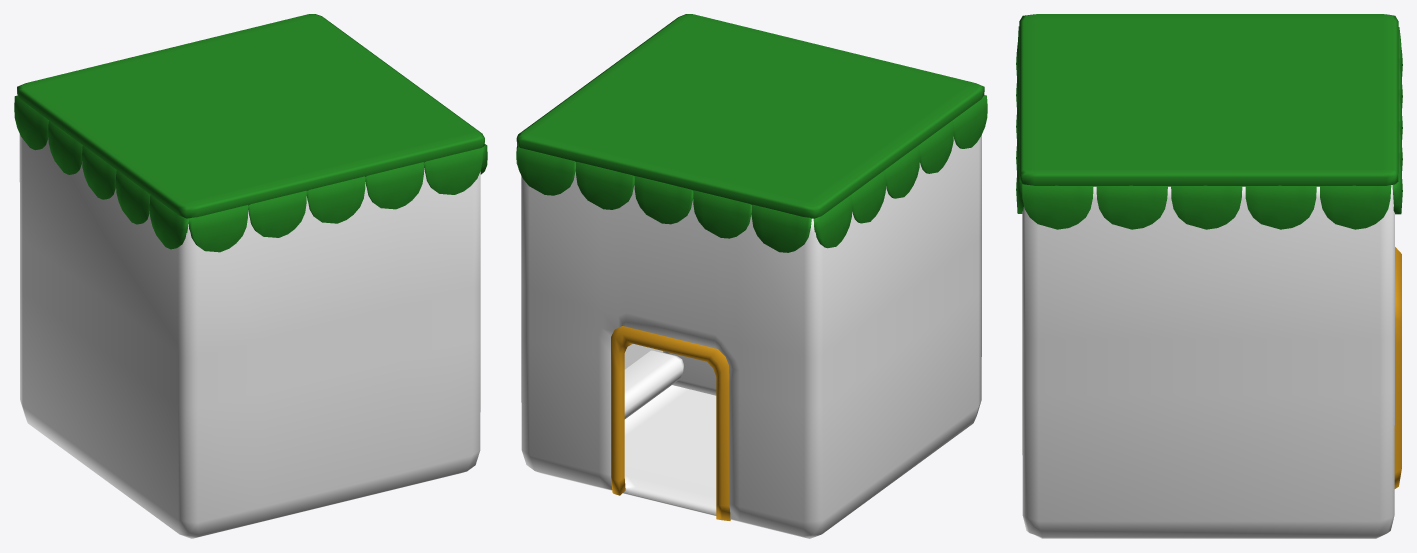
Rendered from HouseNormalCombined.fbx.
3 renders of one model, left to right at view 1: azimuth 30°, elevation 25°; view 2: azimuth 150°, elevation 25°; view 3: azimuth 270°, elevation 25°, orthographic. The views are drawn at different scales.
Visible parts, largest first — view 1: HouseNormal7; view 2: HouseNormal7; view 3: HouseNormal7.
Boxes of the visible parts, left/top/right/bottom form: HouseNormal7: left=14, top=14, right=487, bottom=538; HouseNormal7: left=516, top=14, right=987, bottom=538; HouseNormal7: left=1016, top=14, right=1402, bottom=538.
Size of what is drawn, in the model's own units: 2.2 by 2.32 by 2.18.
1 material, 1 textured.
